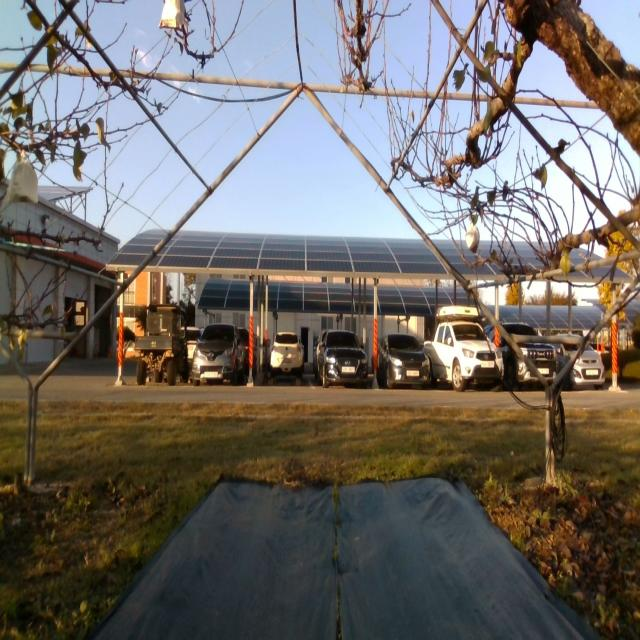pearbags: (4, 160, 38, 204), (158, 0, 184, 30), (465, 222, 480, 253)
